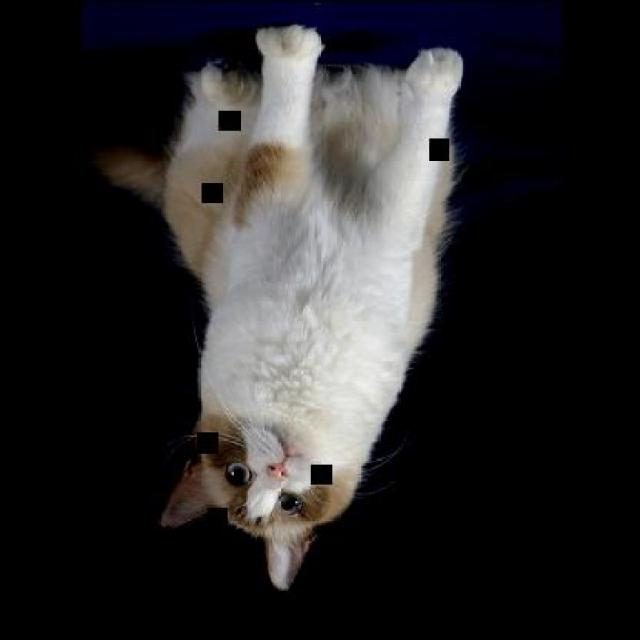unauthorized: (96, 22, 464, 590)
